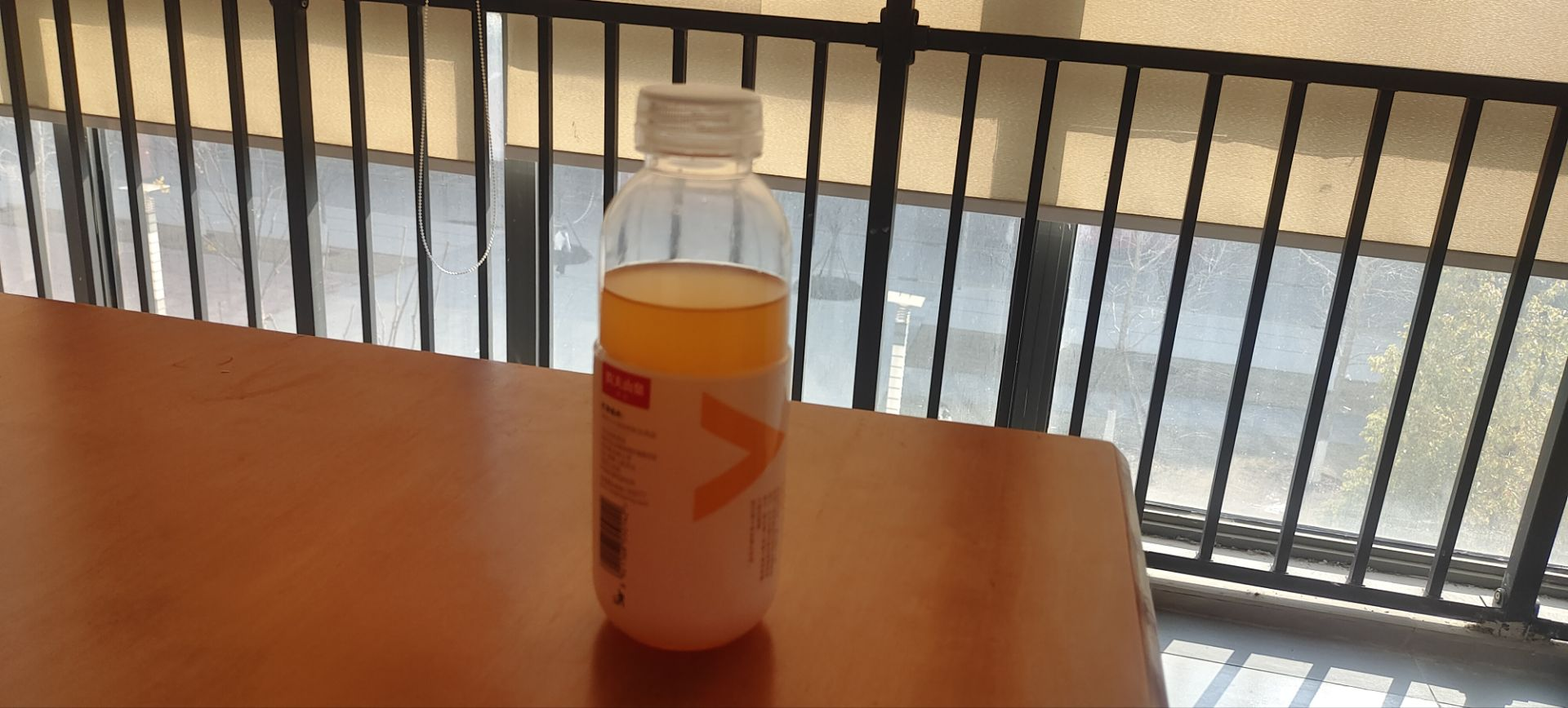redbull: (576, 82, 807, 675)
